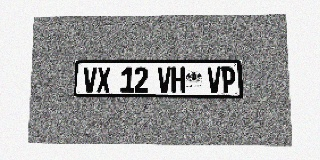1: (121, 67, 134, 92)
2: (135, 67, 148, 92)
H: (172, 67, 185, 92)
P: (221, 67, 236, 92)
V: (83, 67, 97, 92), (207, 67, 221, 92), (158, 67, 171, 92)
X: (97, 67, 111, 92)
